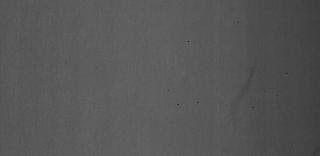inclusion: (262, 88, 278, 98), (194, 99, 202, 105)
water spot: (224, 63, 260, 117)
